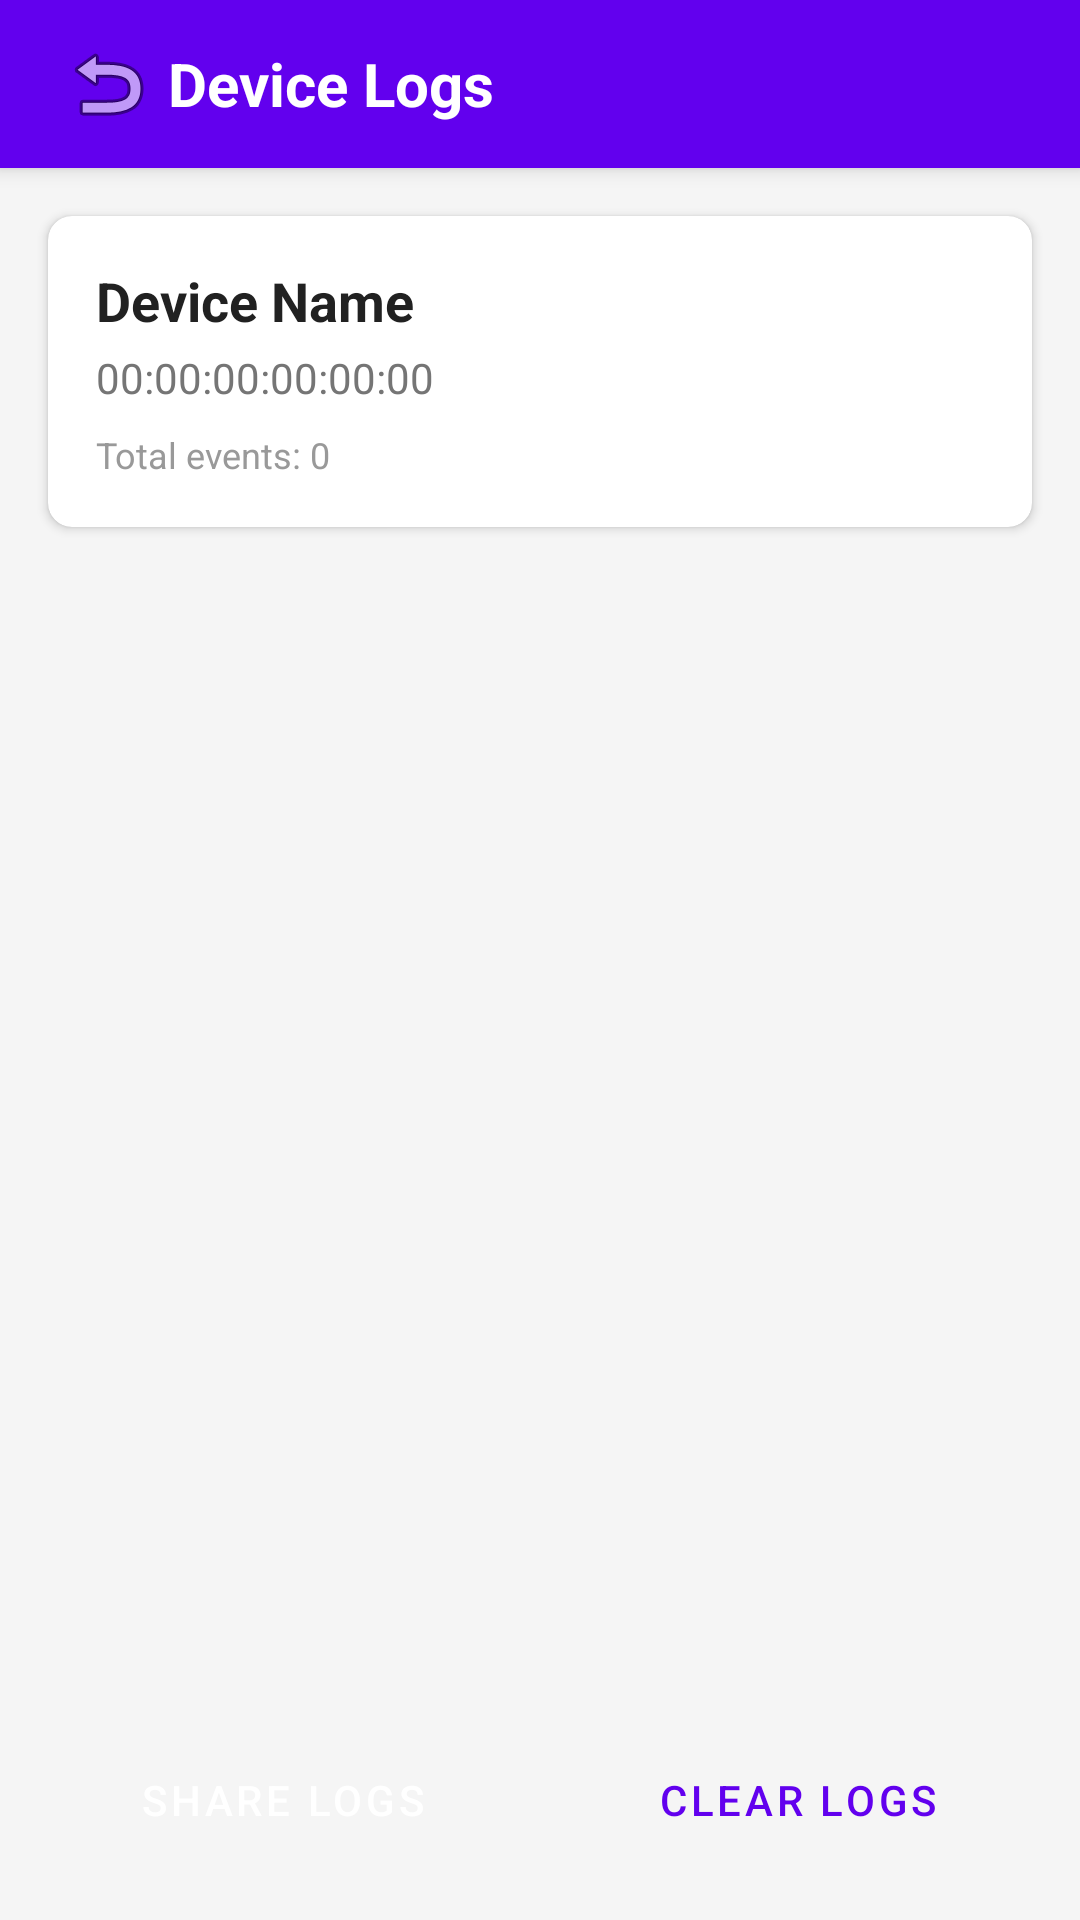

Screen size 1080 x 1920. Icon name, then its box in pixels as (x1, y1, x2, y2):
Back: (75, 53, 144, 116)
